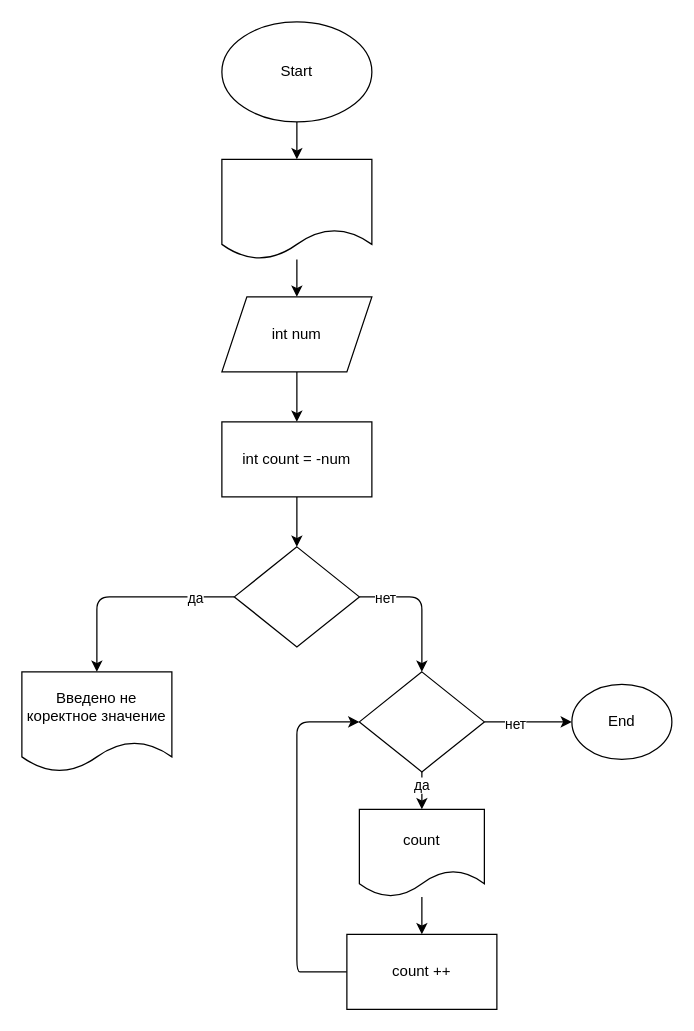
This 694x1031 diagram has some shape labels left out. Each missing label, with the centre of its shape:
count <= num: (x=421, y=721)
num < 1: (x=296, y=596)
Введите натуральное число: (x=296, y=208)
